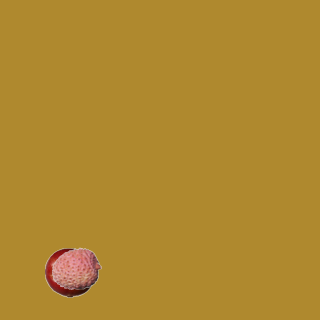Apple Braeburn: (44, 247, 94, 297)
Lychee: (51, 243, 101, 293)
